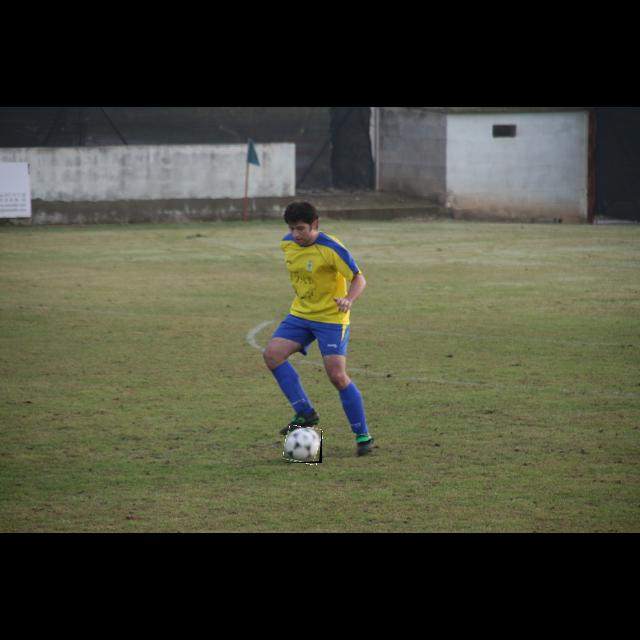Football: (284, 427, 322, 463)
